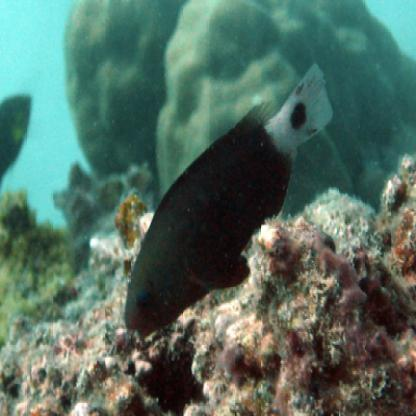parrot: (122, 58, 336, 345)
